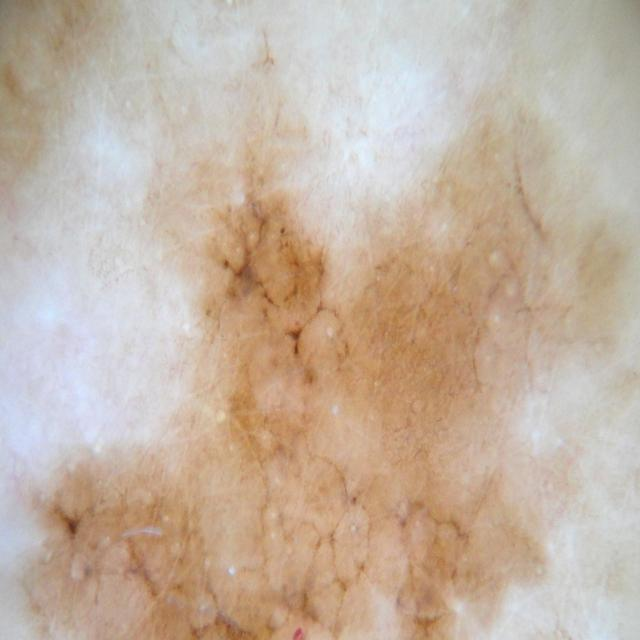Melanoma: (12, 156, 636, 640)
